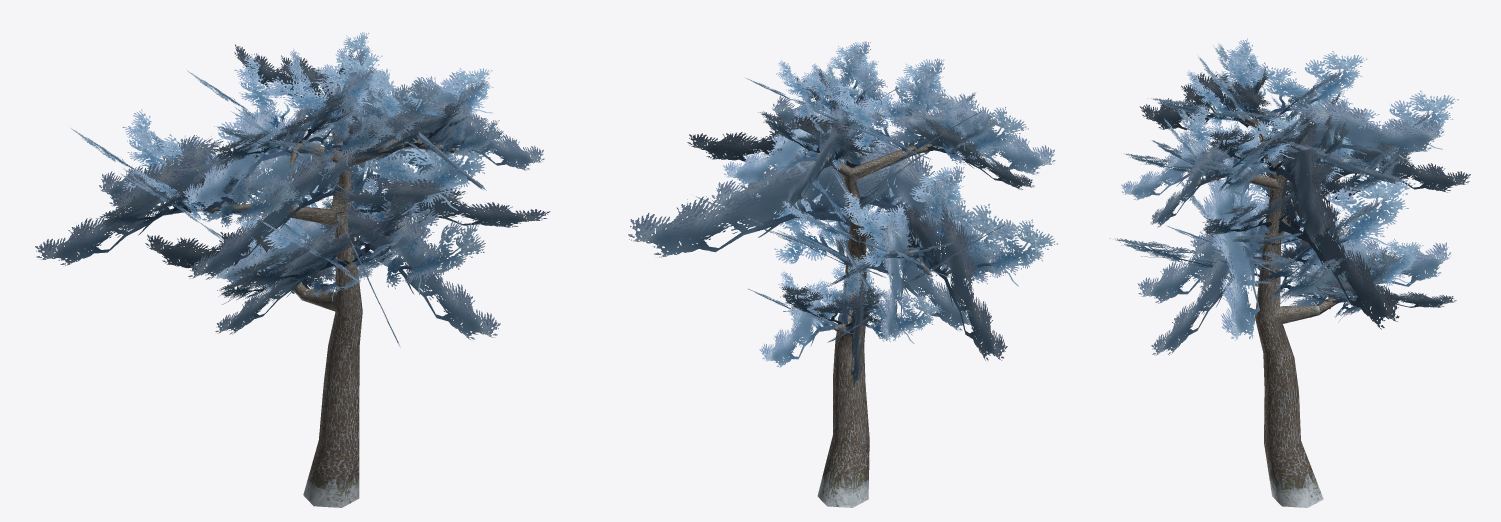
The model's file is Tree_songshu_02.FBX.
The picture shows the model from 3 angles, left to right: view 1: azimuth 30°, elevation 25°; view 2: azimuth 150°, elevation 25°; view 3: azimuth 270°, elevation 25°; orthographic projection. The views are drawn at different scales.
Visible parts, largest first — view 1: Tree_songshu_02; view 2: Tree_songshu_02; view 3: Tree_songshu_02.
Part boxes in pixels (x1=…): Tree_songshu_02: x1=35, y1=32, x2=550, y2=507; Tree_songshu_02: x1=628, y1=41, x2=1057, y2=507; Tree_songshu_02: x1=1110, y1=38, x2=1470, y2=507.
Size of the model in its own units: 1777 by 1791 by 1428.
